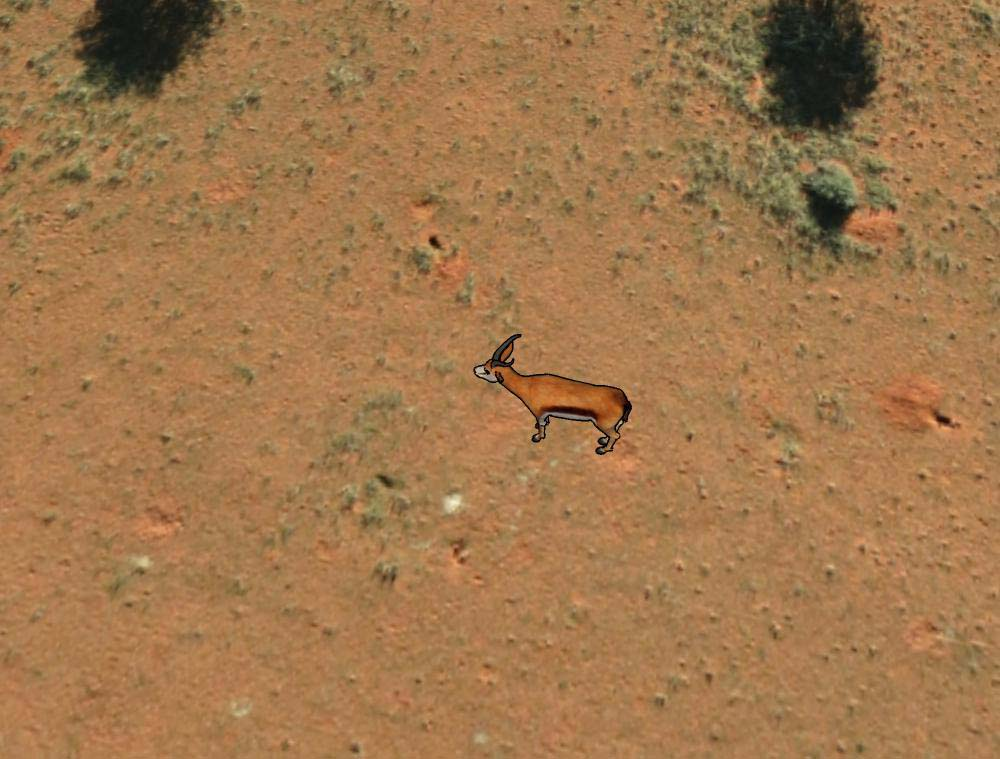springbok: (470, 331, 634, 461)
